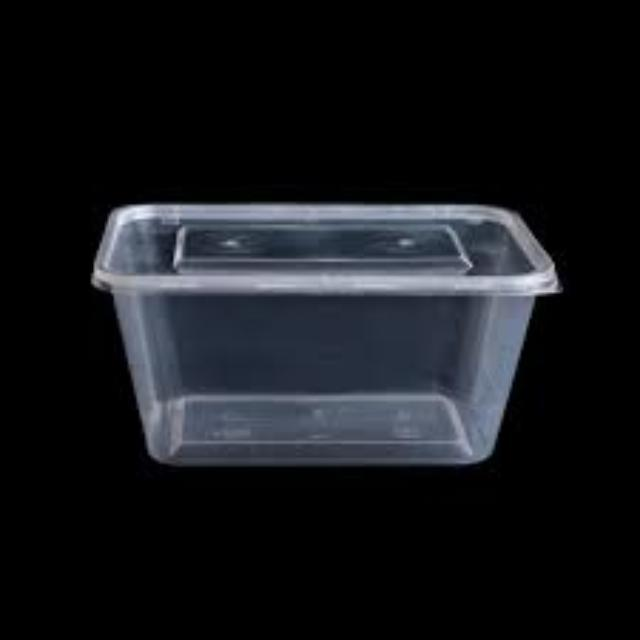Recipiente plastico: (90, 203, 563, 473)
